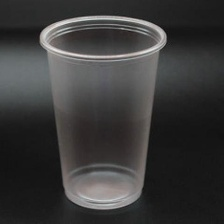glass: (34, 9, 173, 217)
